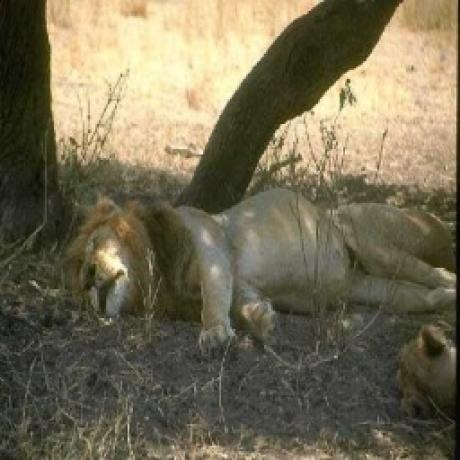Lion: (57, 190, 460, 359)
